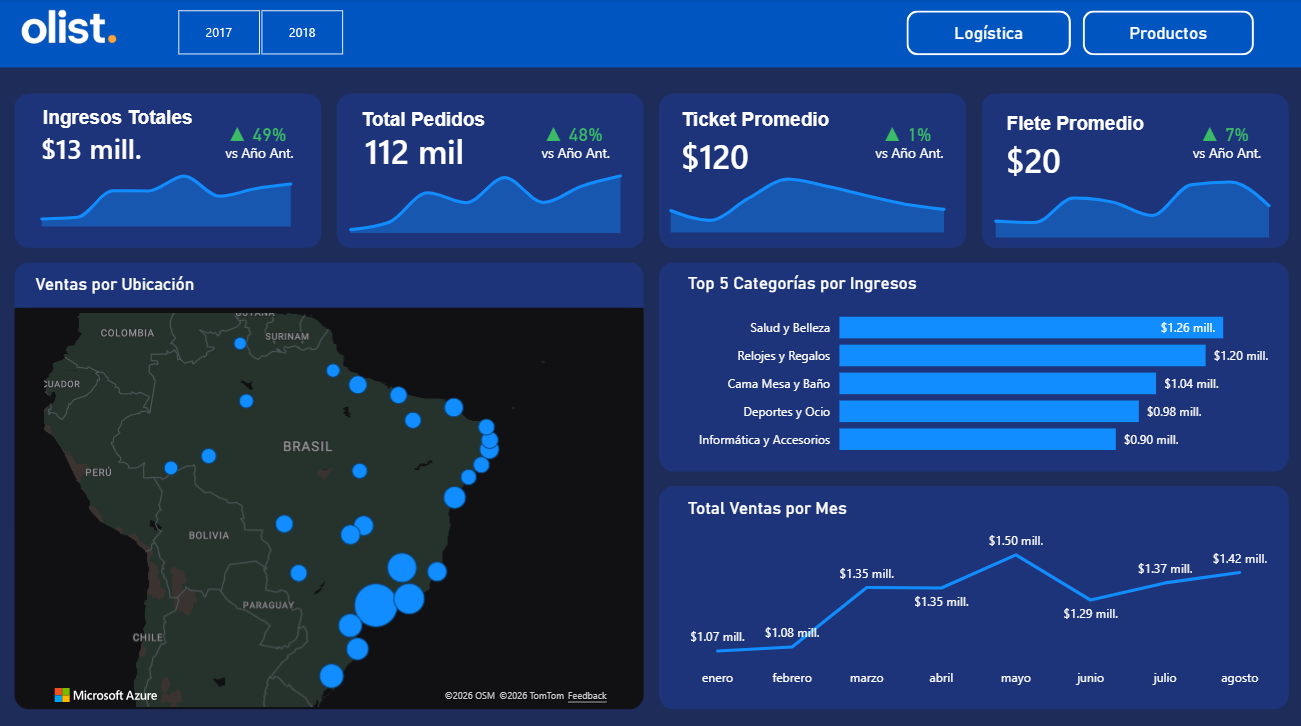

The dashboard page shown, as its layout file describes it:
{"tool":"powerbi","page":{"name":"Visión General","canvas":[1280,720],"ordinal":1},"visuals":[{"type":"cardVisual","fields":{"Data":["Medidas.Total Ventas"]},"box":[12.3,115.3,179.1,60.1],"z":0},{"type":"textbox","box":[38,101.8,186.5,38],"z":1000},{"type":"cardVisual","fields":{"Data":["Medidas.Total Pedidos"]},"box":[330.1,118.2,271,63.6],"z":2000},{"type":"areaChart","fields":{"Category":["Calendario.time_id.Variación.Jerarquía de fechas.Mes"],"Y":["Medidas.Total Pedidos"]},"box":[325.6,144.9,305.1,91],"z":3000},{"type":"textbox","box":[350.4,104.5,190.4,50],"z":4000},{"type":"cardVisual","fields":{"Data":["Medidas.Ticket Promedio"]},"box":[640.3,118.1,246,72.2],"z":5000},{"type":"areaChart","fields":{"Category":["Calendario.time_id.Variación.Jerarquía de fechas.Mes"],"Y":["Medidas.Ticket Promedio"]},"box":[639.7,155.1,309,80.8],"z":6000},{"type":"textbox","box":[665,104.2,190.4,50],"z":7000},{"type":"cardVisual","fields":{"Data":["Medidas.Flete Promedio"]},"box":[959.1,122,246,72.2],"z":8000},{"type":"areaChart","fields":{"Category":["Calendario.time_id.Variación.Jerarquía de fechas.Mes"],"Y":["Medidas.Flete Promedio"]},"box":[958.5,159,309,80.8],"z":9000},{"type":"textbox","box":[983.7,108.1,190.4,50],"z":10000},{"type":"lineChart","fields":{"Category":["Calendario.time_id.Variación.Jerarquía de fechas.Mes"],"Y":["Medidas.Total Ventas"]},"box":[23.3,150.9,282.2,78.5],"z":11000},{"type":"slicer","fields":{"Values":["Calendario.time_id.Variación.Jerarquía de fechas.Año"]},"box":[149.3,5.3,212,57.3],"z":12000},{"type":"card","fields":{"Values":["Medidas.% Var Pedidos YoY"]},"box":[498.9,107.4,128.9,53.9],"z":12000,"group":"g2"},{"type":"card","fields":{"Values":["Medidas.% Var YoY (Año Anterior)"]},"box":[188.8,107.5,128.9,53.9],"z":12000,"group":"g1"},{"type":"card","fields":{"Values":["Medidas.% Var Ticket YoY"]},"box":[826.7,108,128.9,53.9],"z":12000,"group":"g3"},{"type":"card","fields":{"Values":["Medidas.% Var Flete YoY"]},"box":[1138.7,108,128.9,53.9],"z":12000,"group":"g4"},{"type":"group","id":"g1","title":"Grupo 1","box":[188.8,107.5,132,62.5],"z":13000},{"type":"textbox","box":[527.4,137,103.4,32.8],"z":13000,"group":"g2"},{"type":"textbox","box":[217.3,137.1,103.4,32.8],"z":13000,"group":"g1"},{"type":"textbox","box":[855.2,137.6,103.4,32.8],"z":13000,"group":"g3"},{"type":"textbox","box":[1167.2,137.6,103.4,32.8],"z":13000,"group":"g4"},{"type":"group","id":"g2","title":"Grupo 1","box":[498.9,107.4,131.8,62.5],"z":14000},{"type":"group","id":"g3","title":"Grupo 1","box":[826.7,108,132,62.7],"z":15000},{"type":"group","id":"g4","title":"Grupo 1","box":[1138.7,108,132,62.7],"z":16000},{"type":"clusteredBarChart","title":"Top 5 Categorías por Ingresos","fields":{"Category":["Productos.categoria_prod"],"Y":["Medidas.Total Ventas"]},"box":[670.7,269.3,581.3,190.7],"z":17000},{"type":"azureMap","title":"Ventas por Ubicación","fields":{"Size":["Medidas.Total Ventas"],"Category":["Clientes.Pais","Clientes.estado_cliente"]},"box":[38.7,304,572,396],"z":18000},{"type":"textbox","box":[30.7,266.7,253.3,37.3],"z":19000},{"type":"actionButton","box":[890.7,12,161.3,44],"z":20000},{"type":"actionButton","box":[1064,12,168,44],"z":21000},{"type":"lineChart","fields":{"Category":["Calendario.time_id.Variación.Jerarquía de fechas.Mes"],"Y":["Medidas.Total Ventas"]},"box":[670.7,490.7,581.3,194.7],"z":22000}]}

Visuals, with their boxes in screenshot pixels (x1, y1, x2, y2), scaled from the page's 1280x720 canvas onto the 1301x726 screenshot:
cardVisual - Medidas.Total Ventas: Rect(13, 116, 195, 177)
textbox: Rect(39, 103, 228, 141)
cardVisual - Medidas.Total Pedidos: Rect(336, 119, 611, 183)
areaChart - Calendario.time_id.Variación.Jerarquía de fechas.Mes x Medidas.Total Pedidos: Rect(331, 146, 641, 238)
textbox: Rect(356, 105, 550, 156)
cardVisual - Medidas.Ticket Promedio: Rect(651, 119, 901, 192)
areaChart - Calendario.time_id.Variación.Jerarquía de fechas.Mes x Medidas.Ticket Promedio: Rect(650, 156, 964, 238)
textbox: Rect(676, 105, 869, 155)
cardVisual - Medidas.Flete Promedio: Rect(975, 123, 1225, 196)
areaChart - Calendario.time_id.Variación.Jerarquía de fechas.Mes x Medidas.Flete Promedio: Rect(974, 160, 1288, 242)
textbox: Rect(1000, 109, 1193, 159)
lineChart - Calendario.time_id.Variación.Jerarquía de fechas.Mes x Medidas.Total Ventas: Rect(24, 152, 311, 231)
slicer - Calendario.time_id.Variación.Jerarquía de fechas.Año: Rect(152, 5, 367, 63)
card - Medidas.% Var Pedidos YoY: Rect(507, 108, 638, 163)
card - Medidas.% Var YoY (Año Anterior): Rect(192, 108, 323, 163)
card - Medidas.% Var Ticket YoY: Rect(840, 109, 971, 163)
card - Medidas.% Var Flete YoY: Rect(1157, 109, 1288, 163)
"Grupo 1" group: Rect(192, 108, 326, 171)
textbox: Rect(536, 138, 641, 171)
textbox: Rect(221, 138, 326, 171)
textbox: Rect(869, 139, 974, 172)
textbox: Rect(1186, 139, 1291, 172)
"Grupo 1" group: Rect(507, 108, 641, 171)
"Grupo 1" group: Rect(840, 109, 974, 172)
"Grupo 1" group: Rect(1157, 109, 1292, 172)
"Top 5 Categorías por Ingresos" clusteredBarChart: Rect(682, 272, 1273, 464)
"Ventas por Ubicación" azureMap: Rect(39, 307, 621, 706)
textbox: Rect(31, 269, 289, 307)
actionButton: Rect(905, 12, 1069, 56)
actionButton: Rect(1081, 12, 1252, 56)
lineChart - Calendario.time_id.Variación.Jerarquía de fechas.Mes x Medidas.Total Ventas: Rect(682, 495, 1273, 691)
